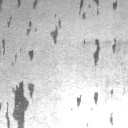red iron: (0, 80, 34, 128), (0, 0, 38, 28), (83, 38, 117, 66), (2, 38, 34, 66), (78, 0, 118, 20), (50, 14, 62, 45), (77, 92, 98, 106), (26, 20, 37, 35), (110, 117, 114, 124), (110, 89, 114, 94)
